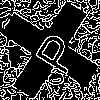P: (25, 25, 82, 77)
